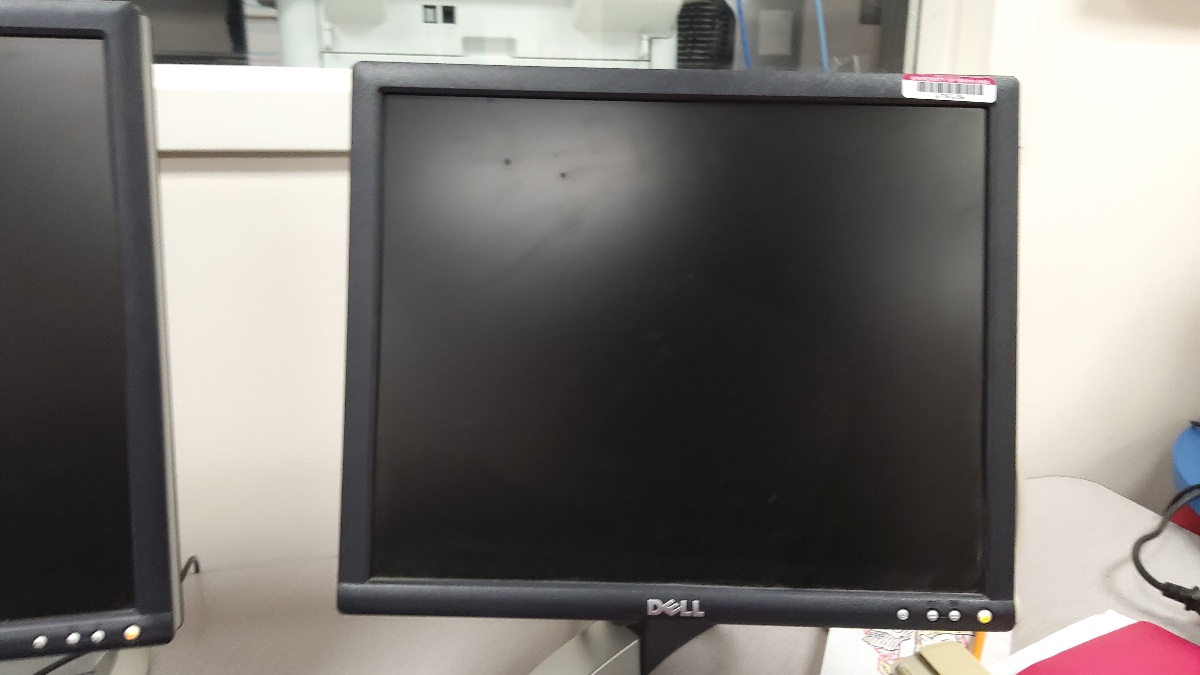monitor: (331, 47, 1026, 640)
